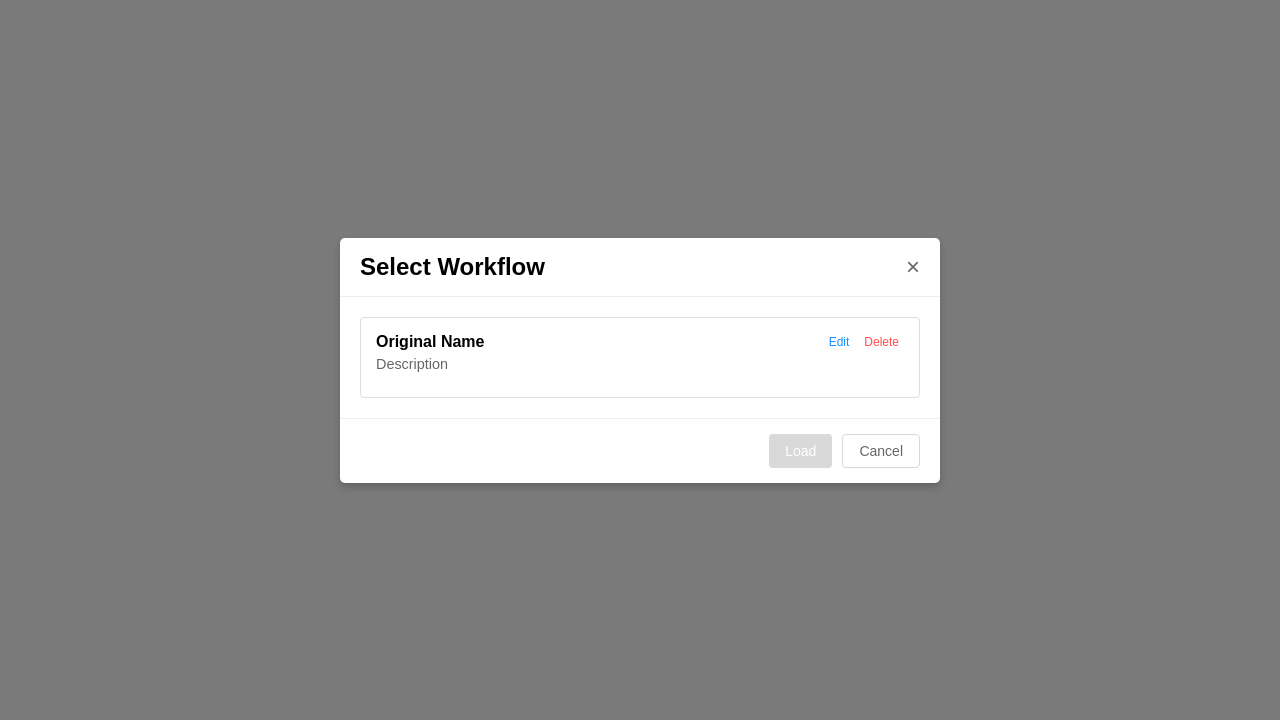
Test case: WorkflowModal.vue › allows editing workflow names
# Click edit button
Click the button with class "edit-button".
click(839, 342)  # box [824,332,854,350]
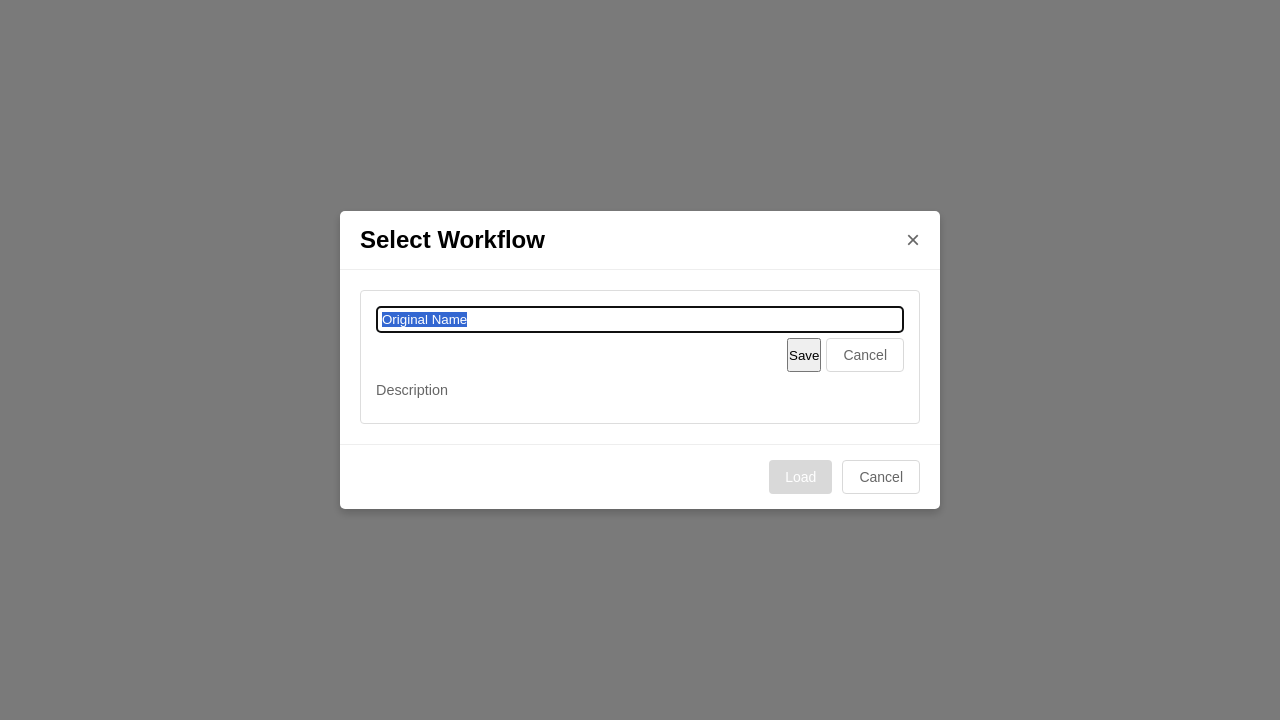
# Set new name
Replace the text in the field with "Updated Name" at [640, 320], box [376,306,904,333]
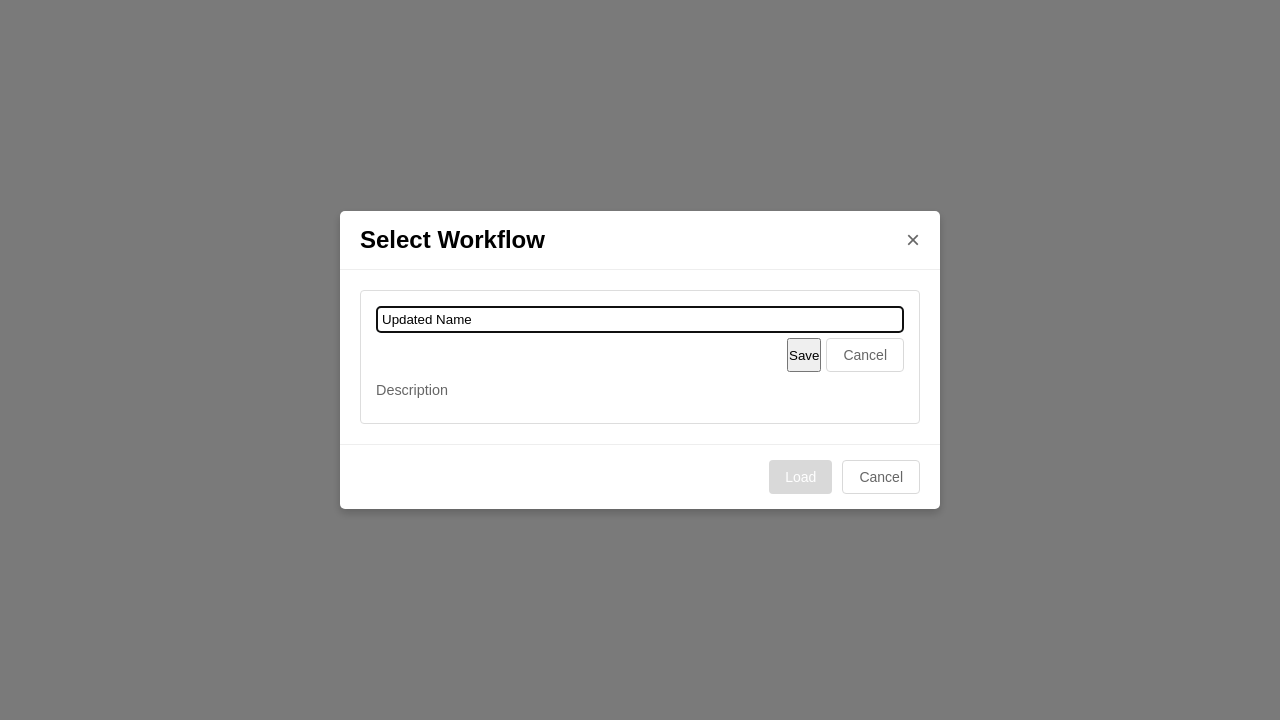
# Click save button
Click the button with class "save-button".
click(804, 355)  # box [787,338,821,372]
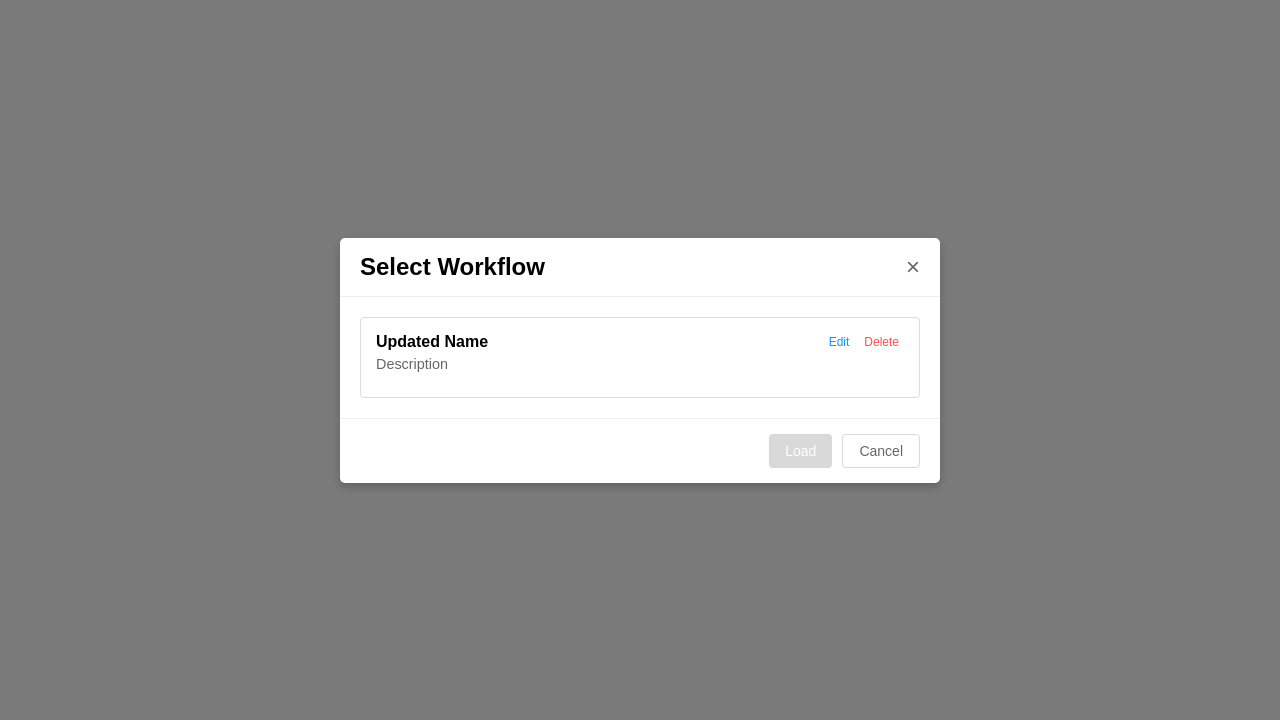
Result: the text "Updated Name" is shown at [376,332,488,350]
